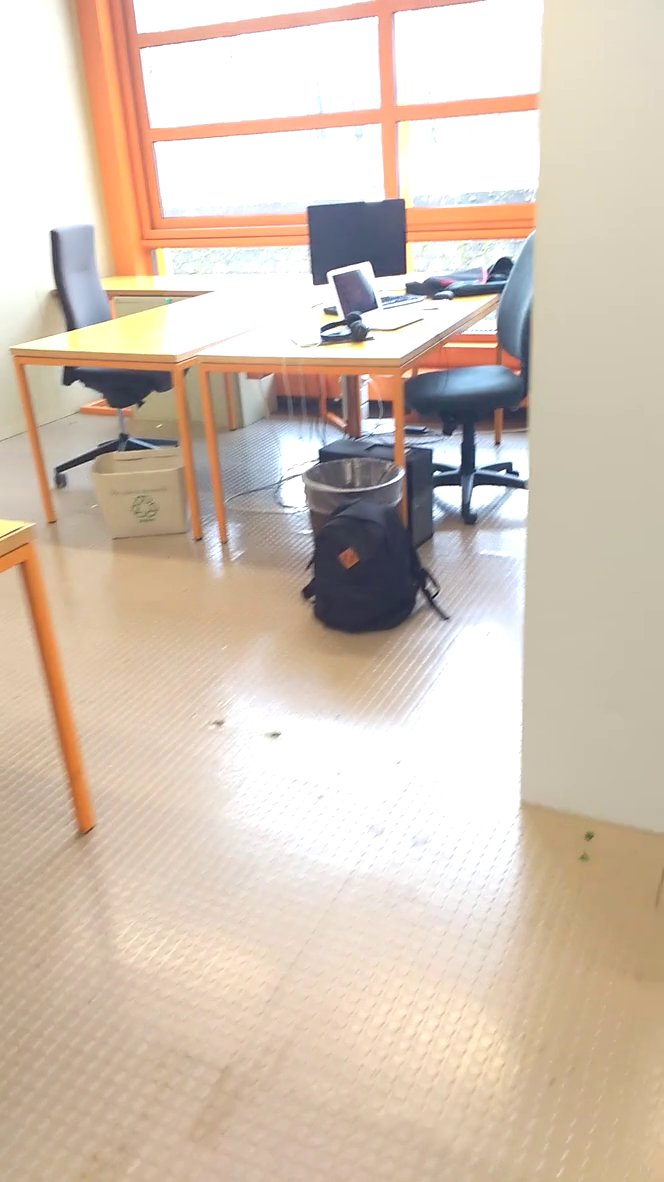bag: (292, 496, 453, 640)
bin: (298, 444, 418, 530)
box: (82, 441, 219, 544)
chair: (403, 212, 565, 531), (30, 216, 182, 396)
laptop: (320, 256, 434, 333)
